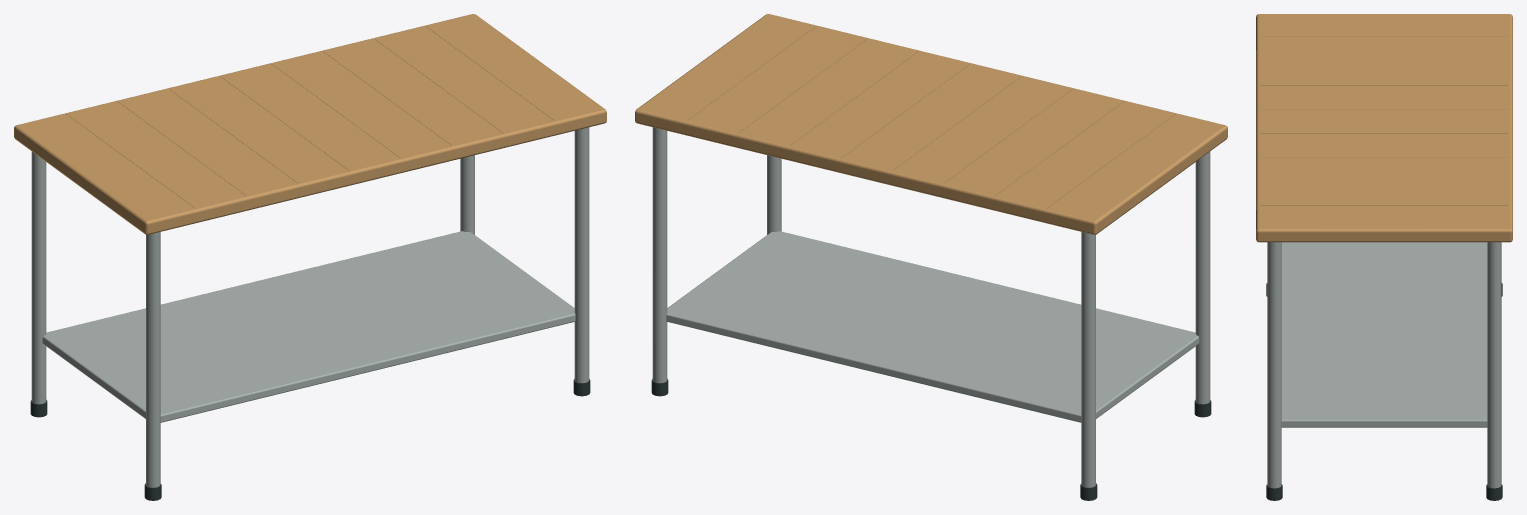
Rendered from prep-table-maple.glb.
The picture shows the model from 3 angles, left to right: view 1: azimuth 30°, elevation 25°; view 2: azimuth 150°, elevation 25°; view 3: azimuth 270°, elevation 25°; orthographic projection. The views are drawn at different scales.
Parts seen in each view (by area): view 1: Worktop, Undershelf, Leg (×4); view 2: Worktop, Undershelf, Leg (×4); view 3: Worktop, Undershelf, Leg (×2).
Boxes of the visible parts, x1,y1,x2,y2 form: Worktop: (14,14,606,234); Undershelf: (42,231,575,422); Leg (×4): (31,127,589,487); Worktop: (635,14,1227,234); Undershelf: (666,231,1199,422); Leg (×4): (652,127,1210,487); Worktop: (1256,14,1512,242); Undershelf: (1281,242,1487,427); Leg (×2): (1267,242,1501,488).
Bounding box in the file's own units: 1.52 × 0.9017 × 0.762.
